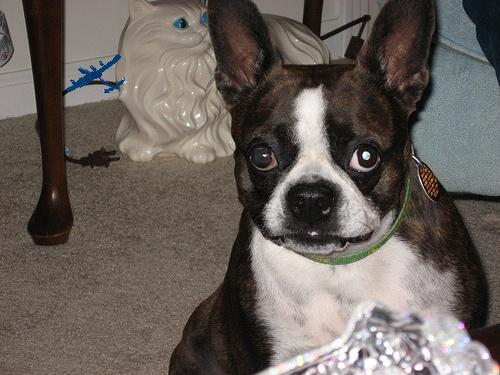tampered: (67, 55, 125, 93)
